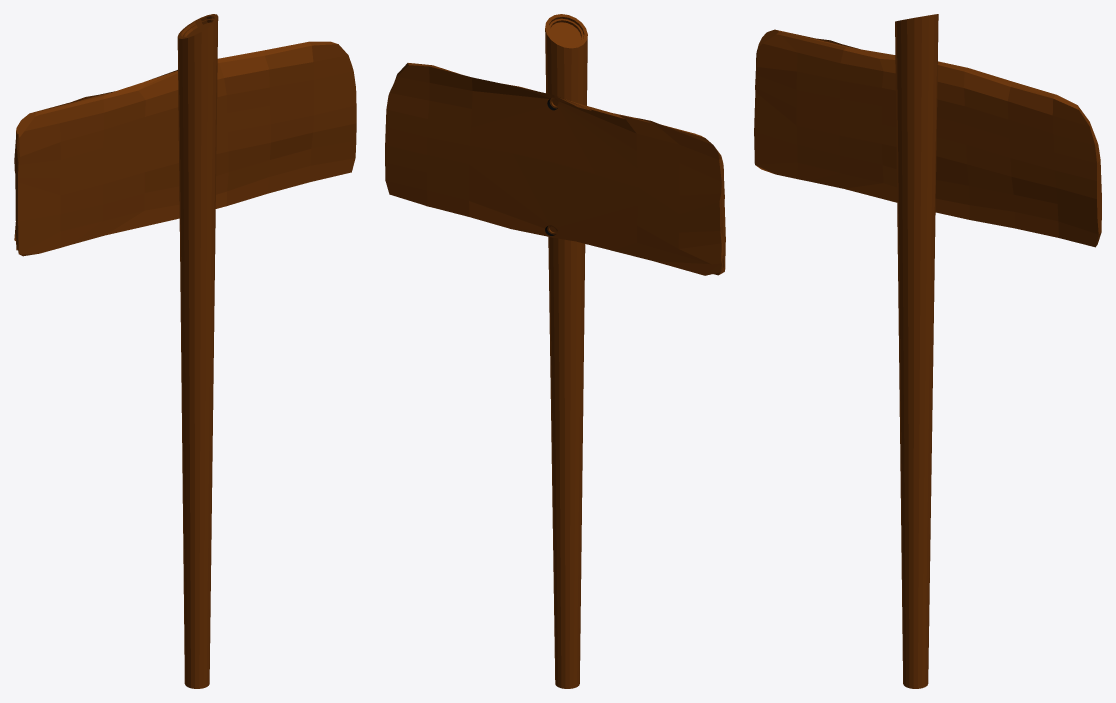
Rendered from Столб.fbx.
3 renders of one model, left to right at view 1: azimuth 30°, elevation 25°; view 2: azimuth 150°, elevation 25°; view 3: azimuth 330°, elevation 25°, orthographic. The views are drawn at different scales.
Visible parts, largest first — view 1: Cylinder; view 2: Cylinder; view 3: Cylinder.
Part boxes in pixels (box(x1,y1,x2,y2)): Cylinder: box(14, 14, 356, 688); Cylinder: box(385, 14, 725, 688); Cylinder: box(754, 14, 1101, 688).
Size of the model in its own units: 288 by 542 by 40.01.
